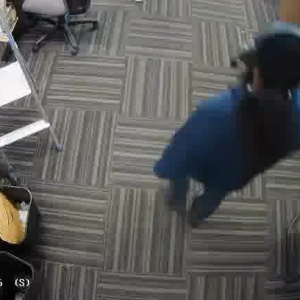person: (166, 23, 298, 233)
